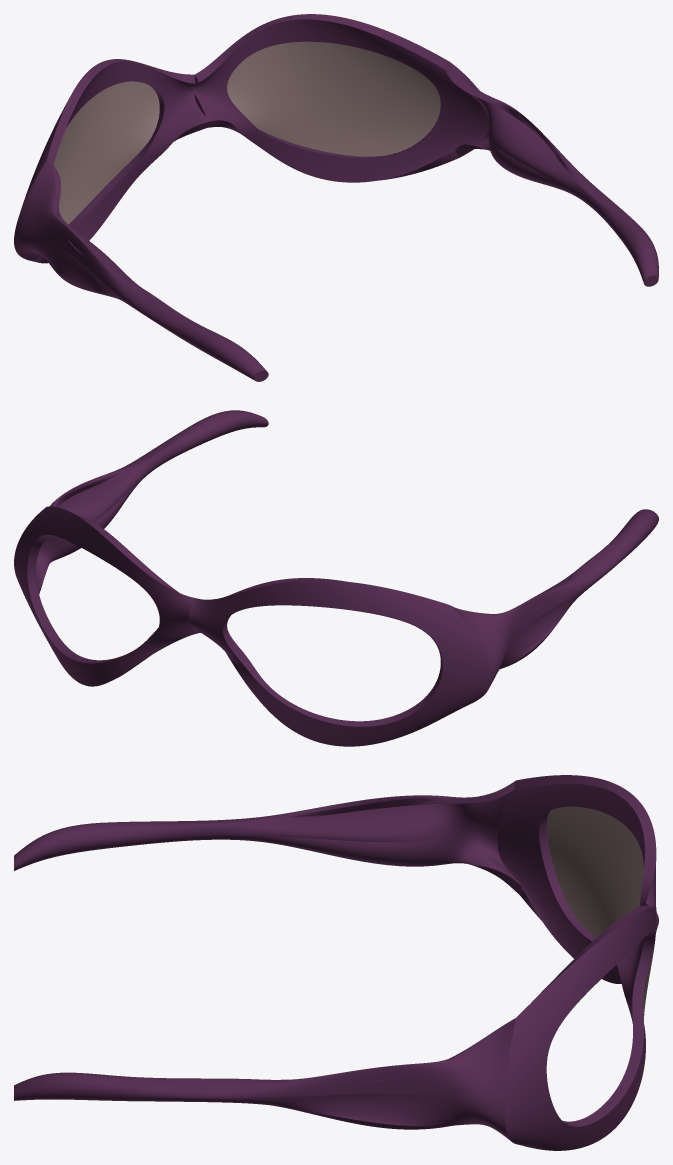
3 views of the same model, one above another, from view 1: azimuth 30°, elevation 25°; view 2: azimuth 150°, elevation 25°; view 3: azimuth 270°, elevation 25° (orthographic). The views are drawn at different scales.
Visible parts, largest first — view 1: Glas 1, Bagar 1, Bagar 4, Glas 2, Bagar 2, Bagar 3; view 2: Bagar 2, Bagar 1, Bagar 4, Bagar 3; view 3: Bagar 3, Bagar 4, Bagar 1, Bagar 2, Glas 2.
Boxes of the visible parts, left/top/right/bottom form: Glas 1: left=227, top=41, right=440, bottom=156; Bagar 1: left=193, top=14, right=488, bottom=182; Bagar 4: left=14, top=160, right=268, bottom=381; Glas 2: left=53, top=81, right=159, bottom=224; Bagar 2: left=20, top=59, right=208, bottom=263; Bagar 3: left=445, top=62, right=658, bottom=286; Bagar 2: left=189, top=578, right=491, bottom=746; Bagar 1: left=14, top=506, right=200, bottom=686; Bagar 4: left=450, top=509, right=658, bottom=686; Bagar 3: left=36, top=410, right=268, bottom=594; Bagar 3: left=14, top=1018, right=515, bottom=1140; Bagar 4: left=14, top=780, right=522, bottom=894; Bagar 1: left=504, top=902, right=658, bottom=1150; Bagar 2: left=497, top=775, right=656, bottom=983; Glas 2: left=546, top=806, right=644, bottom=937.
Size of the model in its own units: 0.1802 by 0.0601 by 0.1745.
